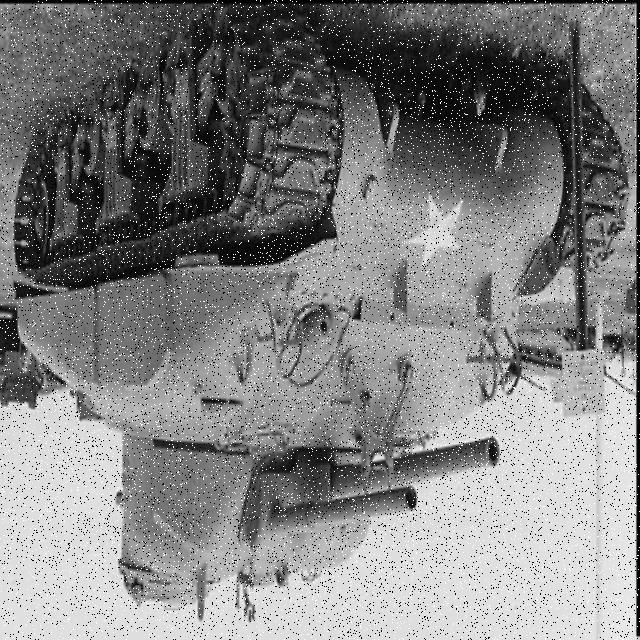MIL_MBT: (31, 80, 545, 609)
